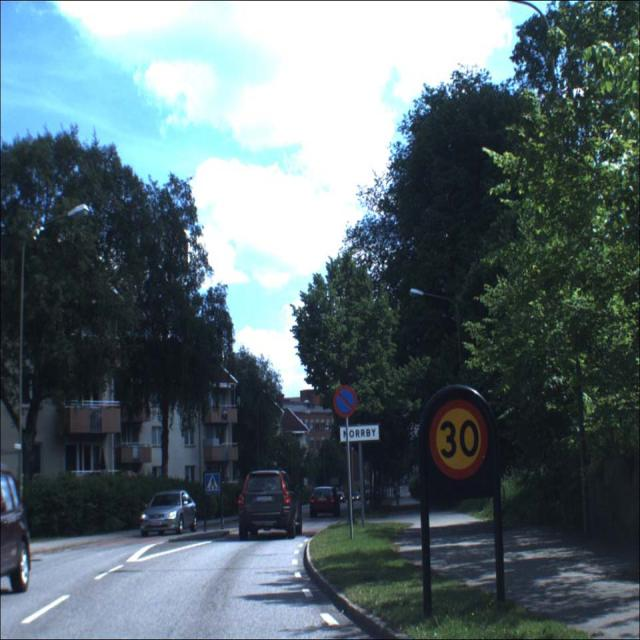30: (431, 398, 488, 478)
girisyok: (334, 386, 356, 418)
